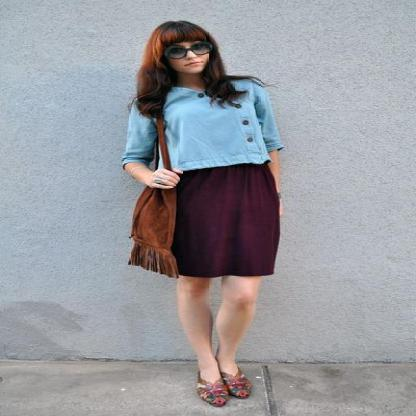bag: (128, 115, 182, 274)
shirt: (109, 70, 283, 171)
shoe: (198, 358, 250, 407)
skirt: (171, 160, 278, 277)
